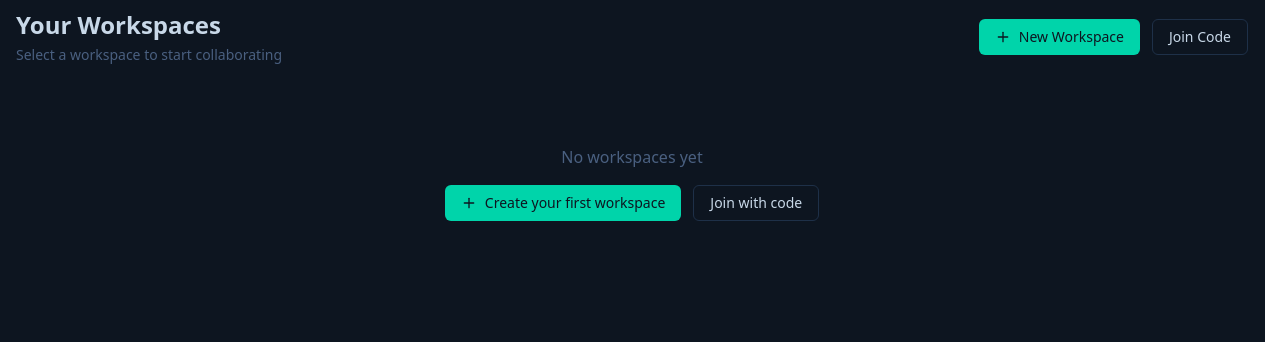
Test: WorkspacesPage › should open create workspace modal when button is clicked
Check: the heading "create new workspace" is not shown
Click the button "New Workspace": [1059, 37] box [979,19,1140,55]
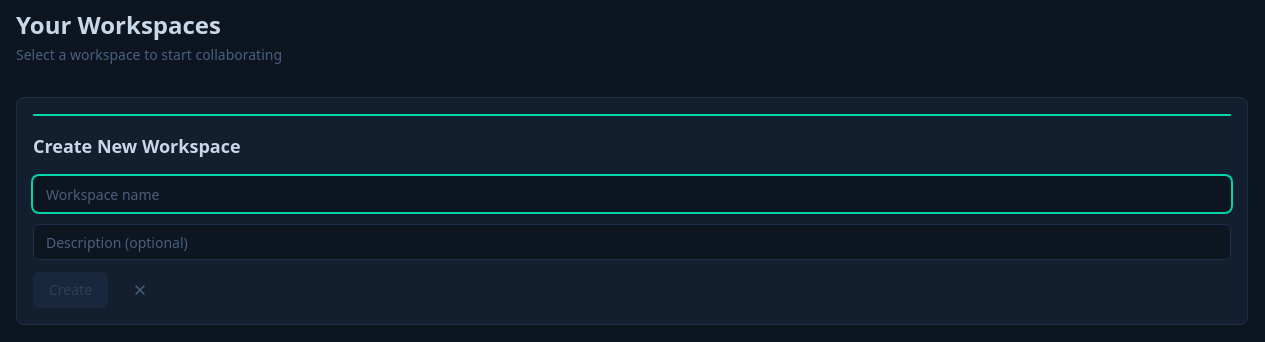
Check: the heading "Create New Workspace" is shown, box [33,134,240,158]
